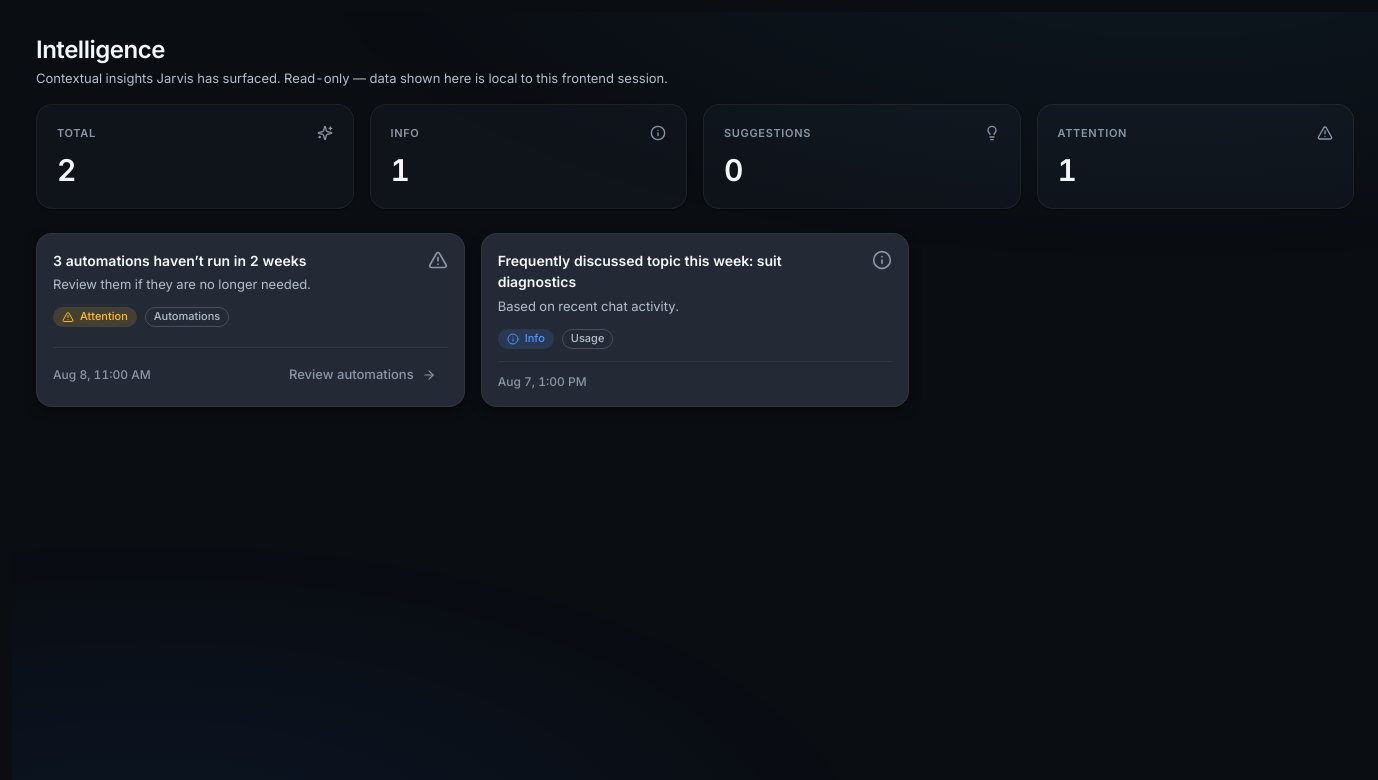
Test: IntelligencePage list › a related-path link navigates to the linked page
Click the button with test id "insight-navigate-insight-a" at (362, 375), box [277,360,448,390]
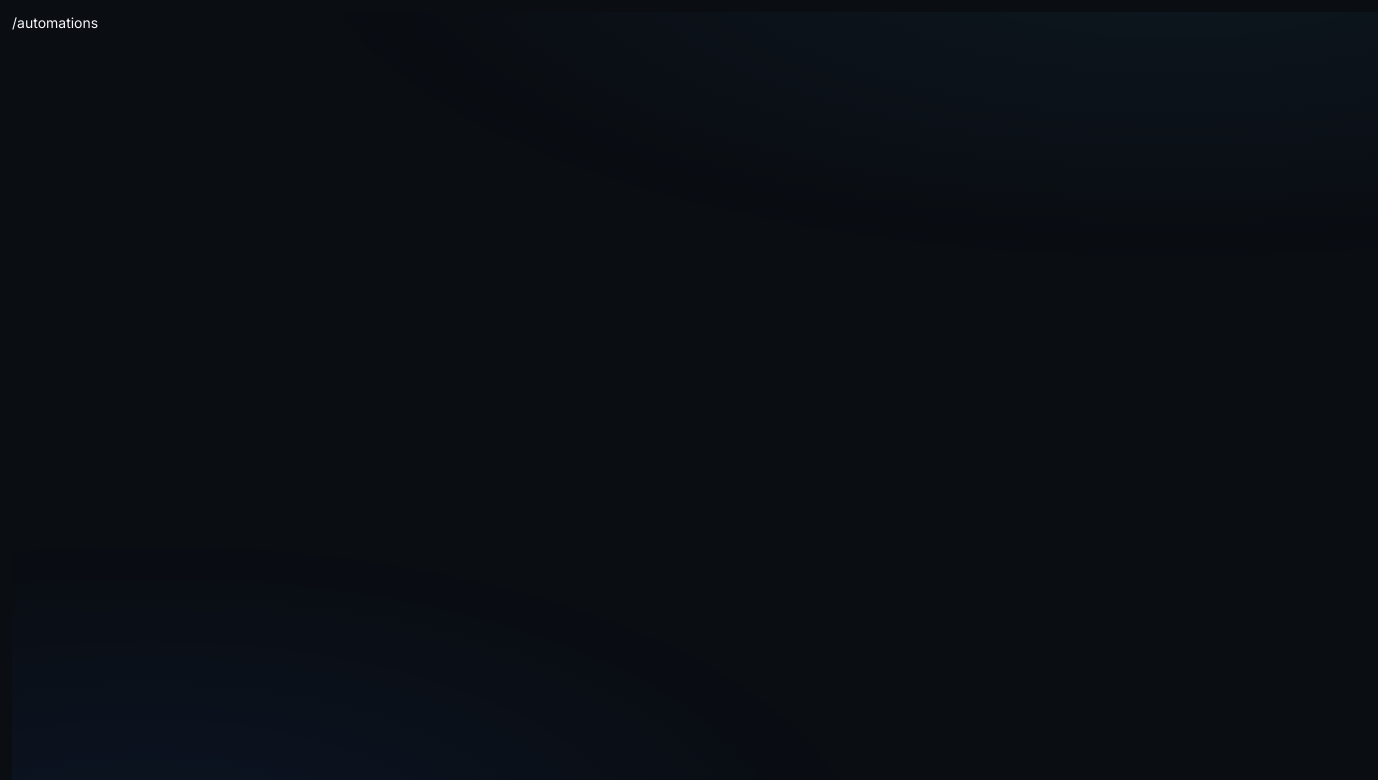
Check: the text with test id "automations-marker" reads "/automations", box [12,14,98,31]
